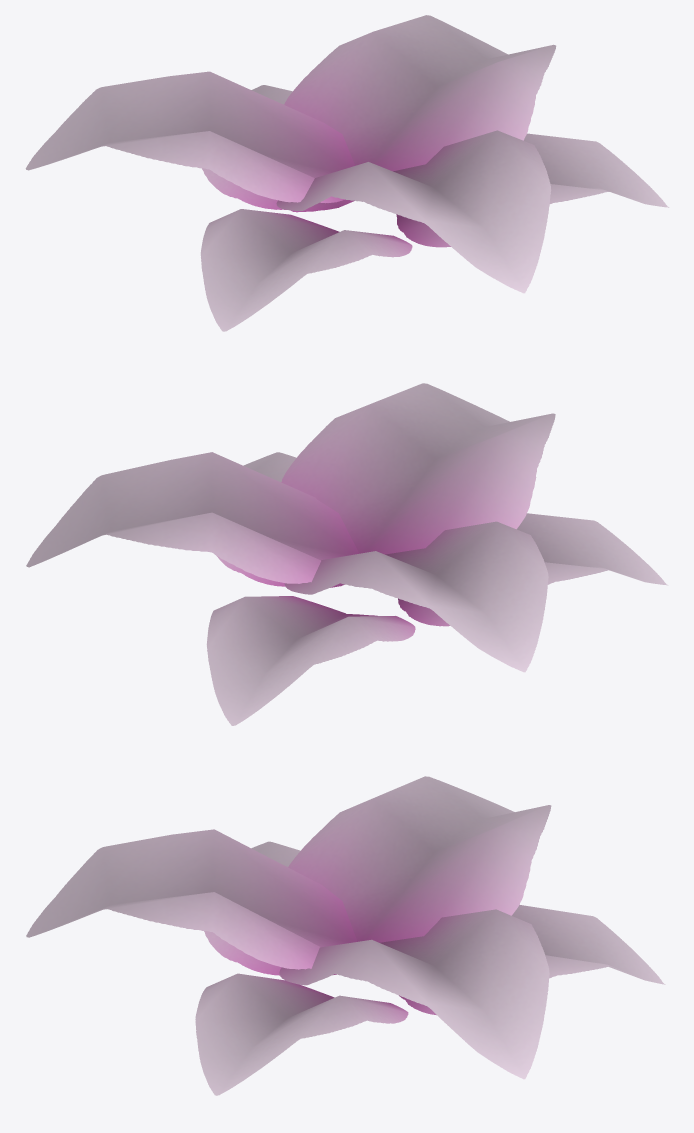
File: Plant_1b.fbx
3 renders of one model, top to bottom at view 1: azimuth 30°, elevation 25°; view 2: azimuth 150°, elevation 25°; view 3: azimuth 270°, elevation 25°, orthographic.
Visible parts, largest first — view 1: Plant_1b; view 2: Plant_1b; view 3: Plant_1b.
Boxes of the visible parts, bbox=[...] form: Plant_1b: bbox=[25, 15, 669, 331]; Plant_1b: bbox=[26, 383, 668, 725]; Plant_1b: bbox=[26, 776, 665, 1095].
Bounding box in the file's own units: 23.48 × 4.89 × 21.68.
1 material, 1 textured.
